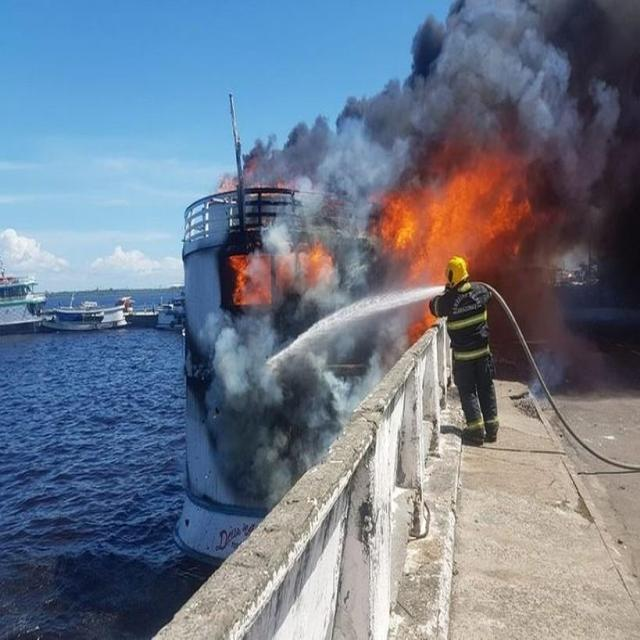Fire: (372, 138, 538, 286), (225, 254, 270, 305), (304, 241, 334, 280)
